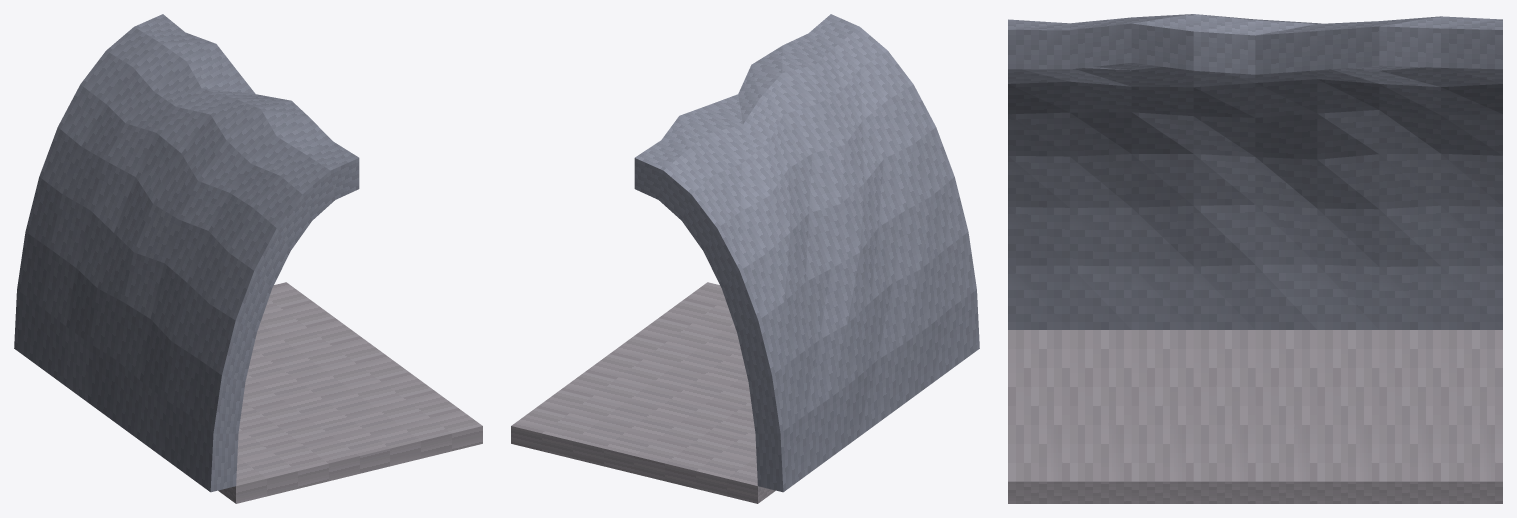
Rendered from cave-and-crystal-networks-tunnel-cutaway-73cc3ef9.glb.
3 views of the same model, side by side, from view 1: azimuth 30°, elevation 25°; view 2: azimuth 150°, elevation 25°; view 3: azimuth 270°, elevation 25° (orthographic). The views are drawn at different scales.
Parts seen in each view (by area): view 1: tunnel-cutaway; view 2: tunnel-cutaway; view 3: tunnel-cutaway.
Boxes of the visible parts, <box> form: tunnel-cutaway: <box>14,14,482,503</box>; tunnel-cutaway: <box>511,14,979,503</box>; tunnel-cutaway: <box>1008,14,1502,503</box>.
Bounding box in the file's own units: 3.2 × 3.61 × 4.
2 materials, 2 textured.
